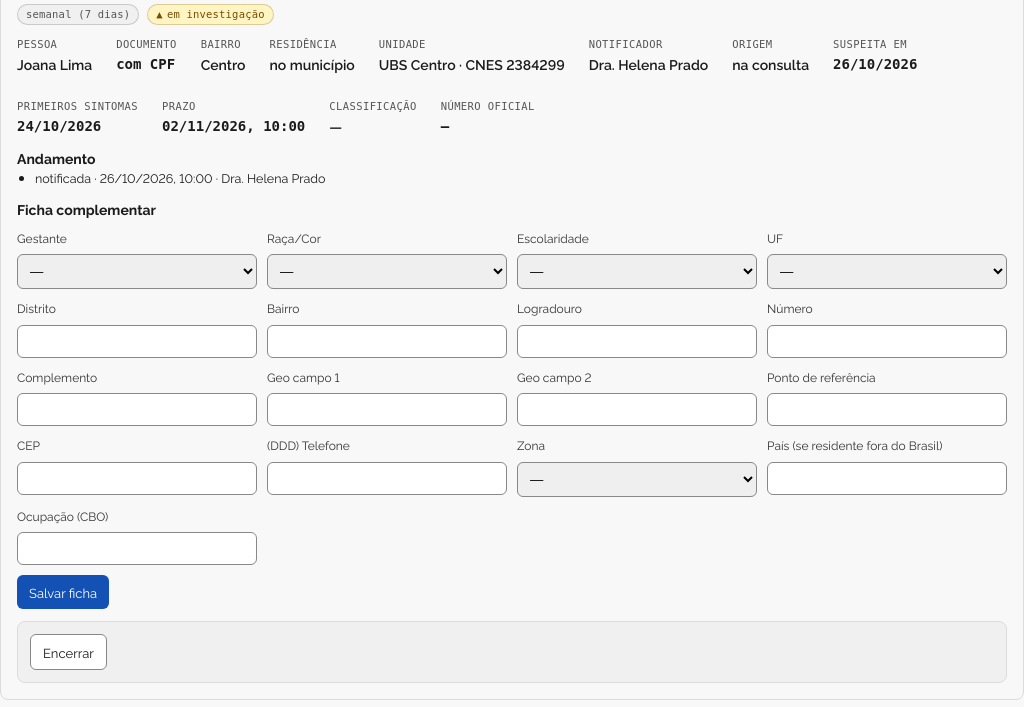
NotificationDetail › encerrar pede a classificação; o corpo leva só to, classificação e versão
Click the button "Encerrar" at x=68, y=652, box [30,634,107,670]
(page scrolled)
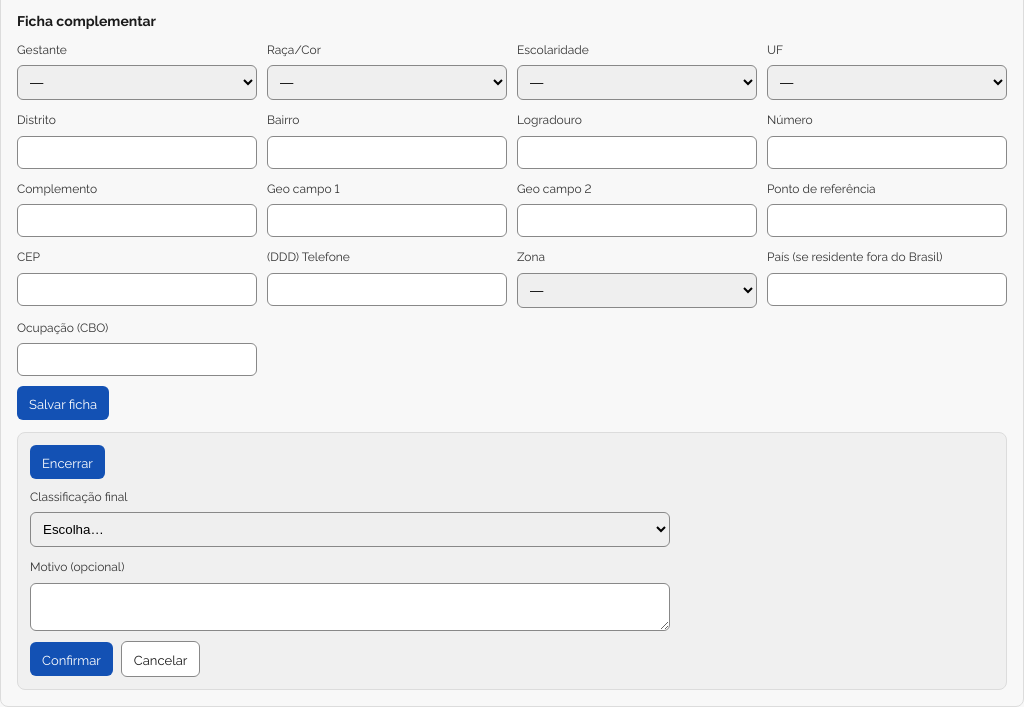
Click the button "Confirmar" at x=71, y=659, box [30,642,113,676]
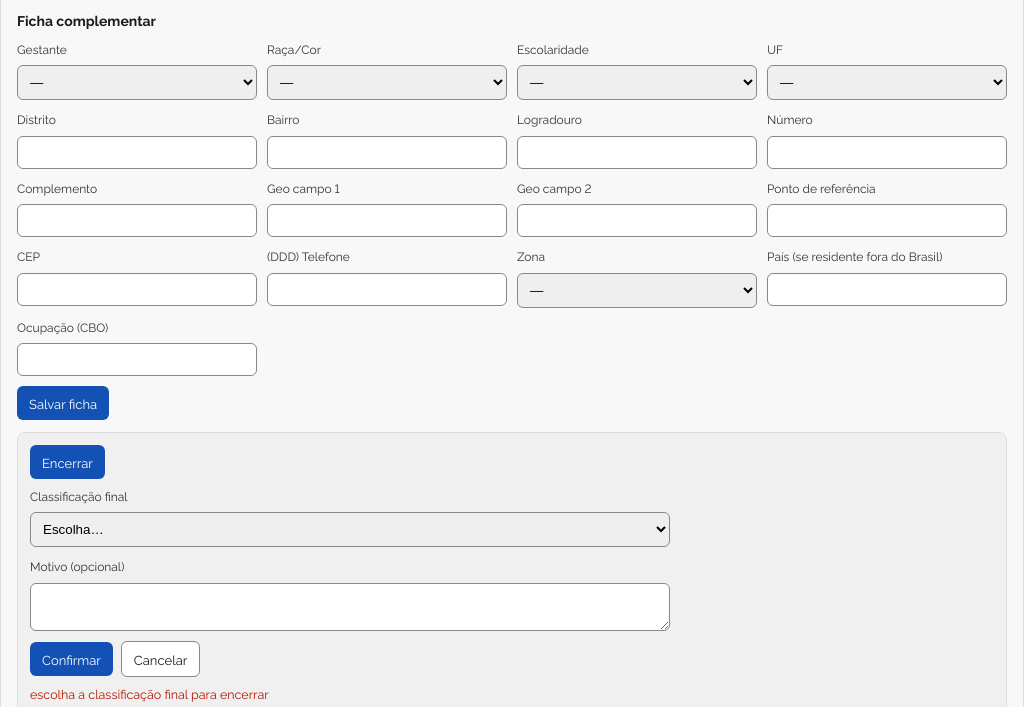
Now the message reads "escolha a classificação final para encerrar", box [30,685,269,702]
Select "confirmado" in the dropdown labelled "Classificação final" at x=350, y=530, box [30,512,670,547]
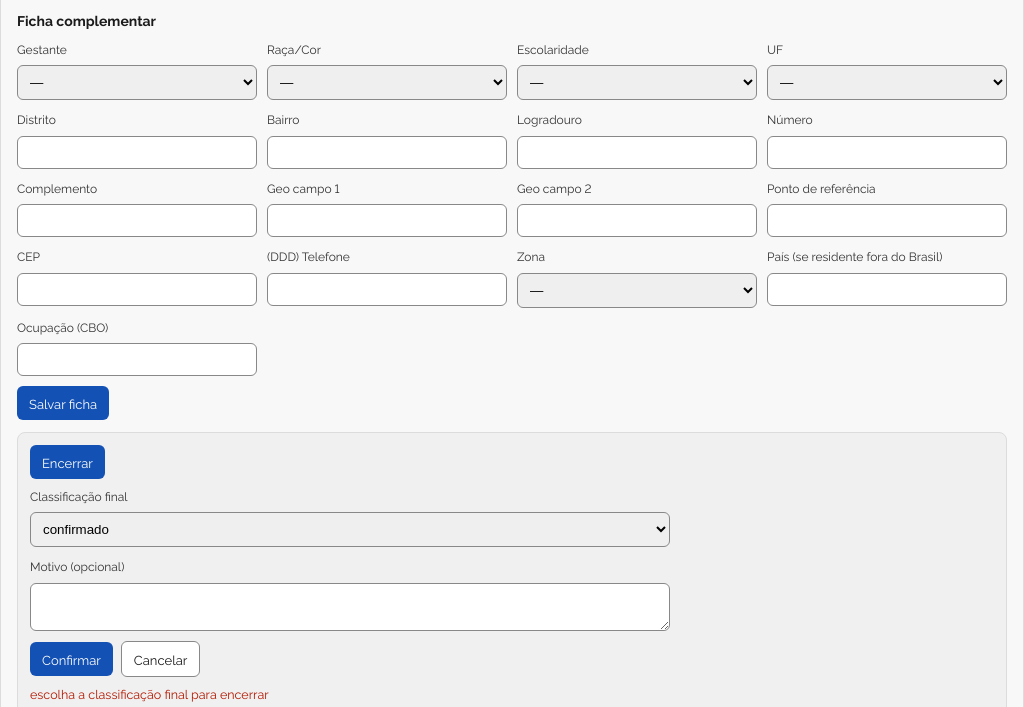
Click the button "Confirmar" at x=71, y=659, box [30,642,113,676]
(page scrolled)
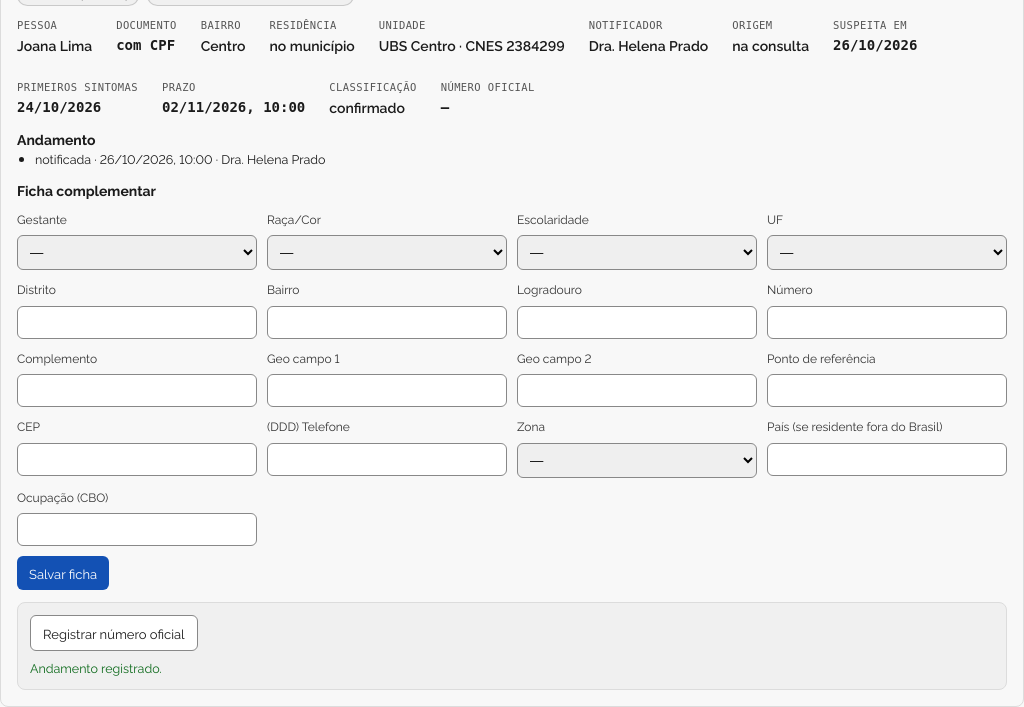
Now the message reads "Andamento registrado.", box [30,659,162,676]
Now the button "Registrar número oficial" is shown, box [30,615,198,651]
